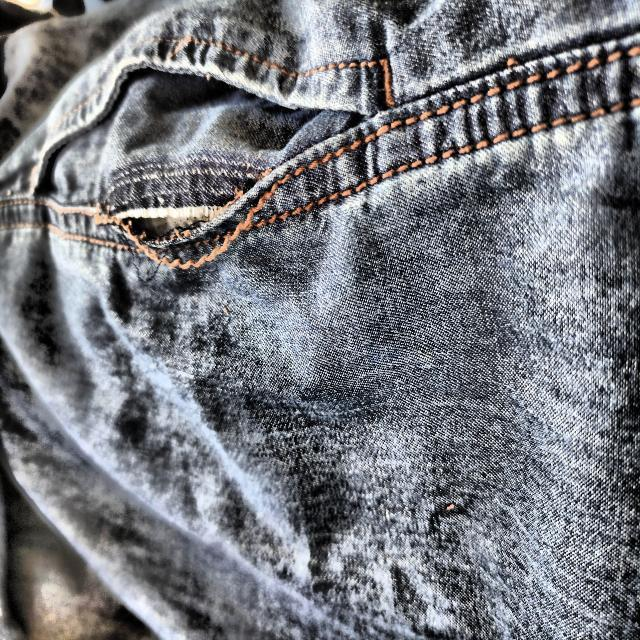gray stitch: (64, 186, 275, 267)
